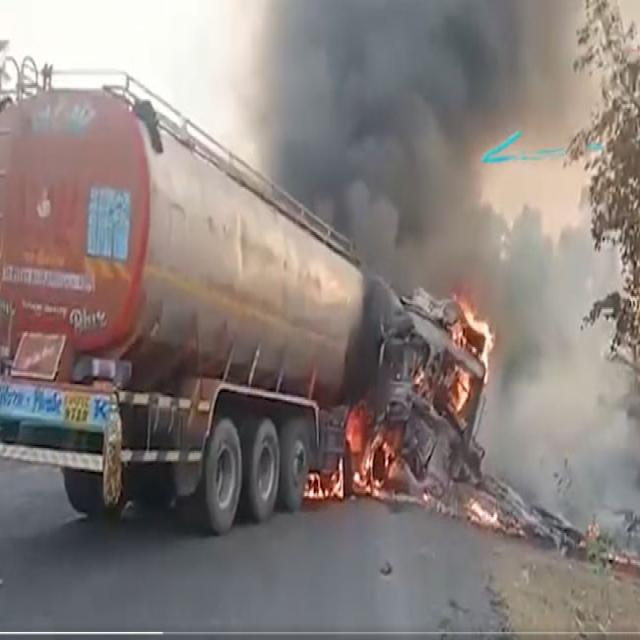accident: (0, 56, 490, 533)
